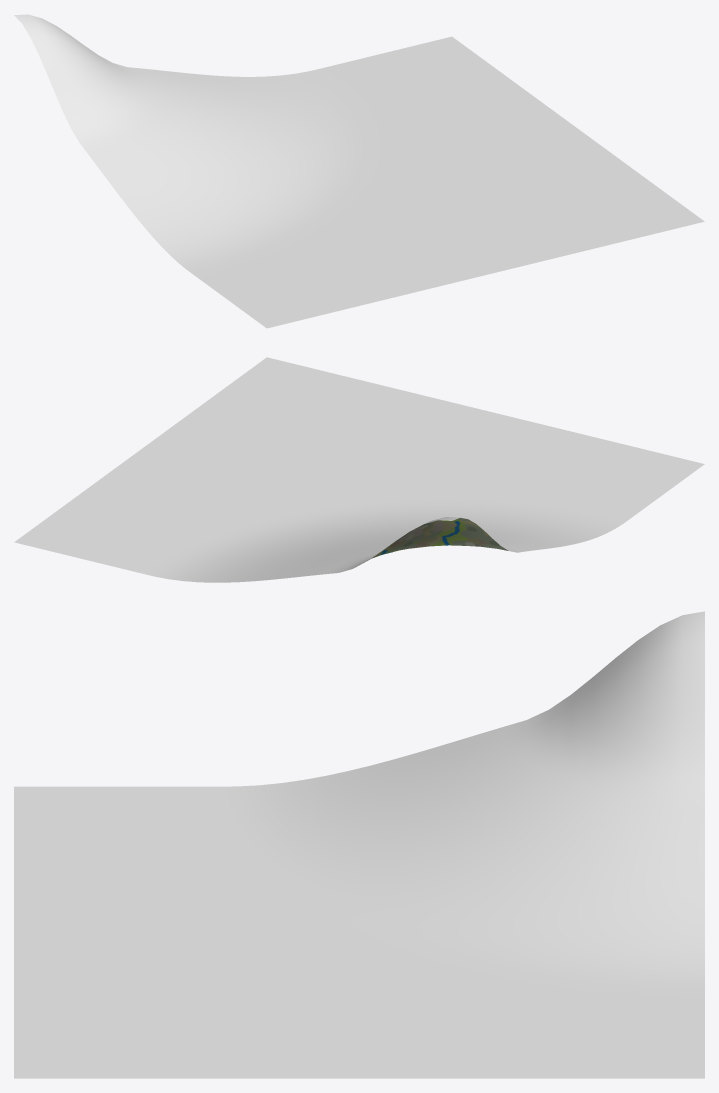
File: MAP.glb
3 renders of one model, top to bottom at view 1: azimuth 30°, elevation 25°; view 2: azimuth 150°, elevation 25°; view 3: azimuth 270°, elevation 25°, orthographic. The views are drawn at different scales.
Parts seen in each view (by area): view 1: MAP.colonly; view 2: MAP.colonly, MAP.sol; view 3: MAP.colonly.
Boxes of the visible parts, x1,y1,x2,y2 form: MAP.colonly: (14,14,704,328); MAP.colonly: (14,357,704,582); MAP.sol: (369,517,508,559); MAP.colonly: (14,611,704,1078).
Size of the model in its own units: 400 by 112 by 400.
1 material, 1 textured.
